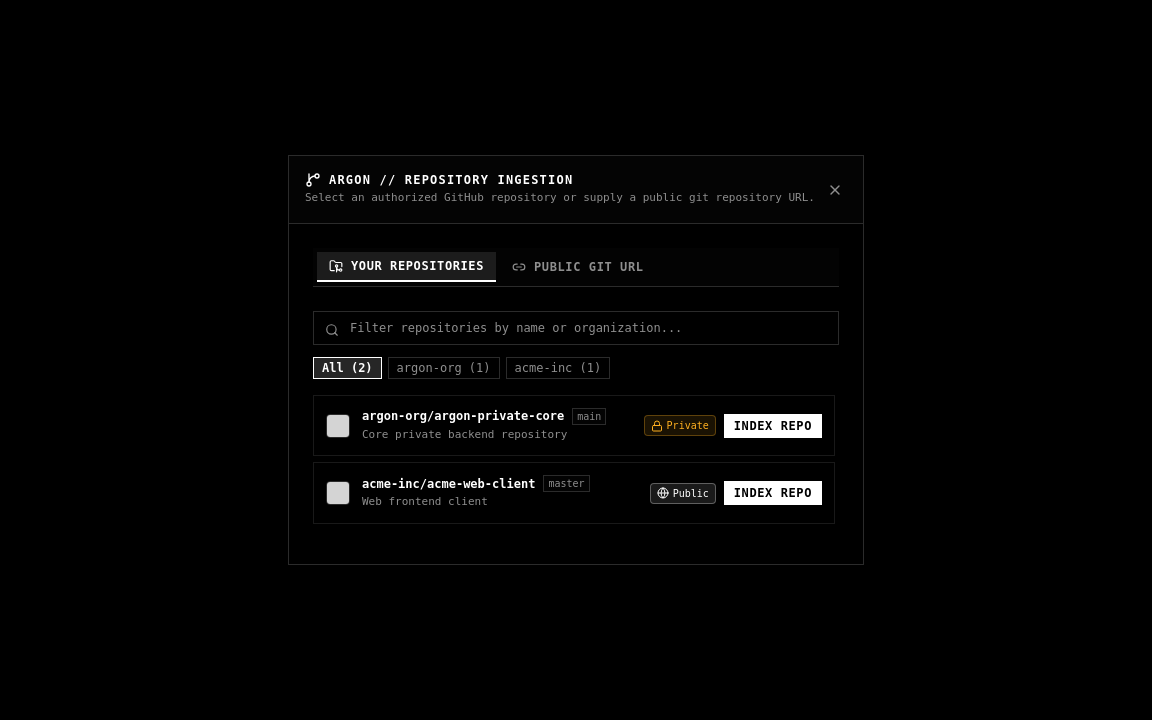
Test: IngestModal & RepoPicker Integration (Task 07-03-01, ING-04) › switches to "Public Git URL" tab and validates public URL input
Click the tab with test id "tab-public-git-url" at (578, 267), box [500,252,656,282]
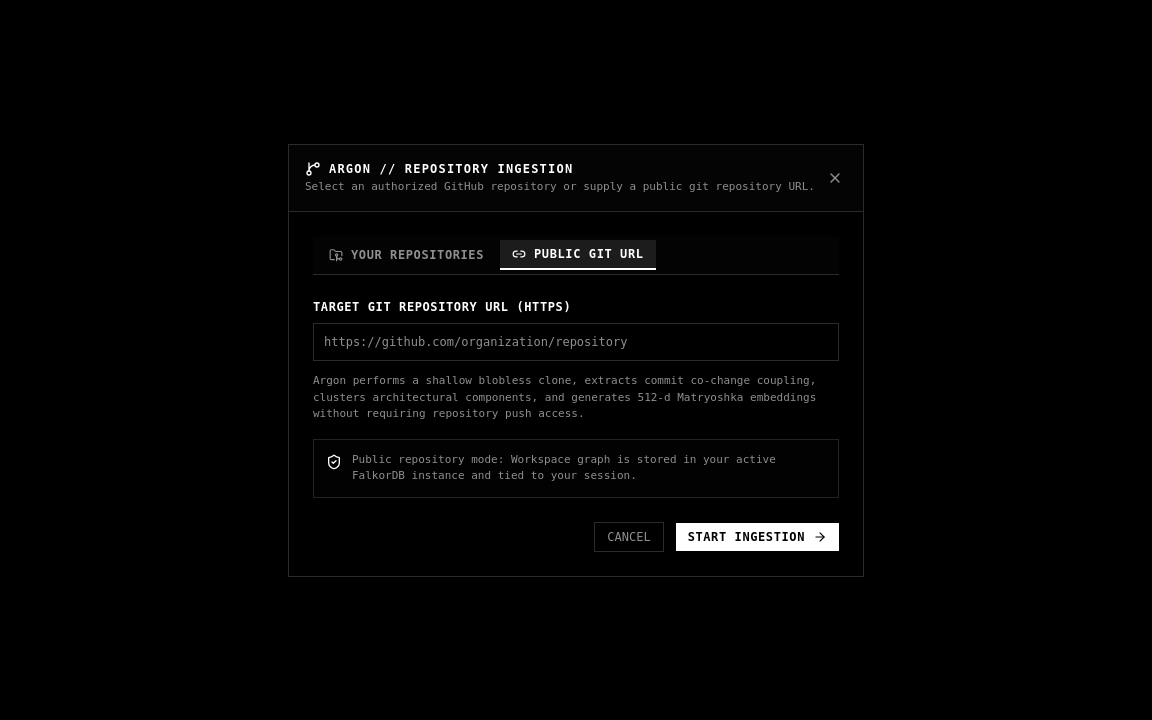
Check: the field with test id "ingest-url-input" is shown, box [313,323,839,361]
Click the button with test id "submit-ingest-button" at (757, 536), box [676,522,839,550]
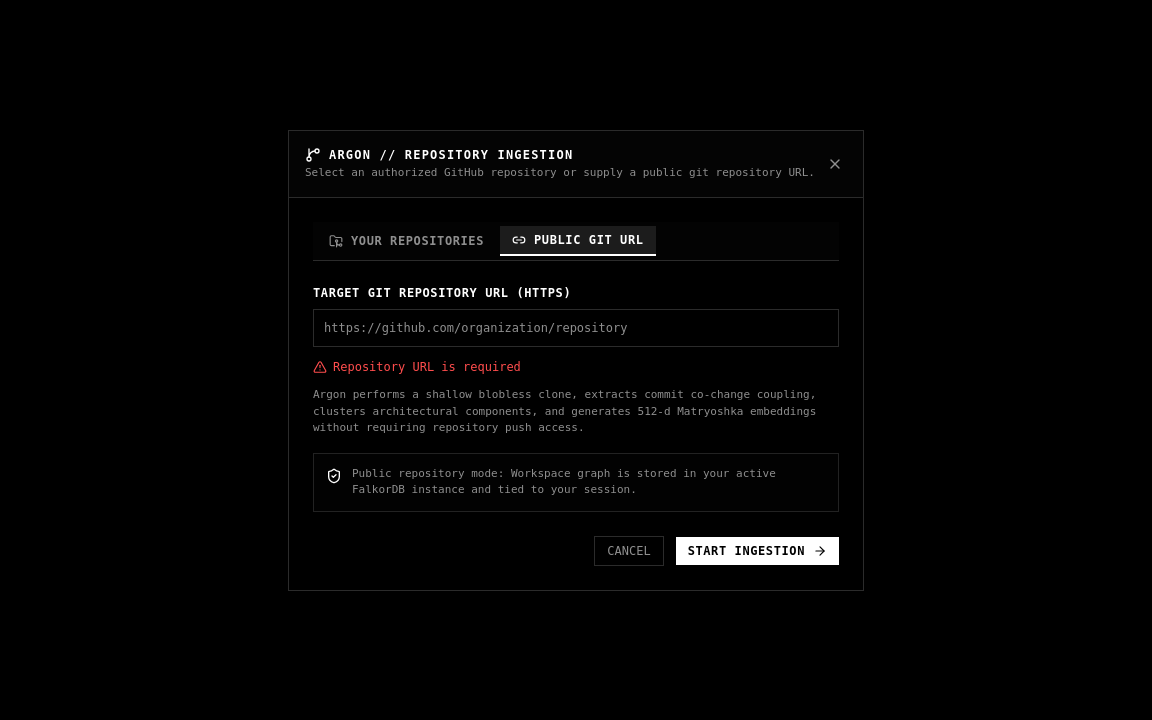
Check: the element with test id "ingest-validation-error" reads "Repository URL is required", box [333,360,521,374]
